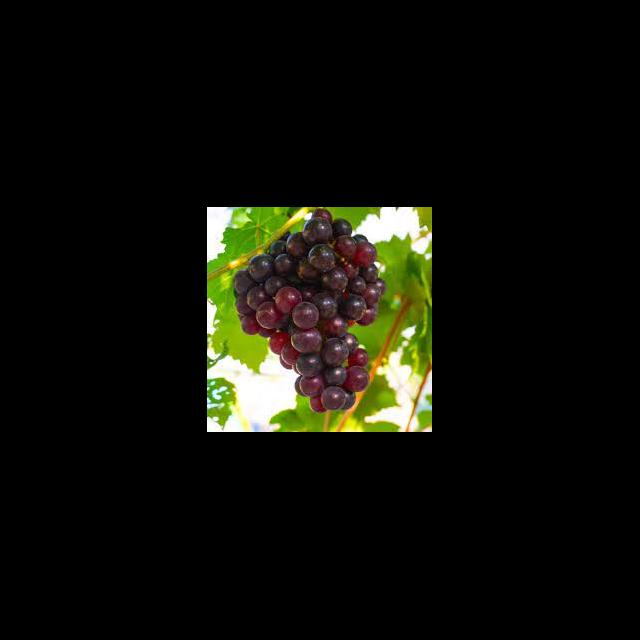grape: (232, 208, 386, 414)
